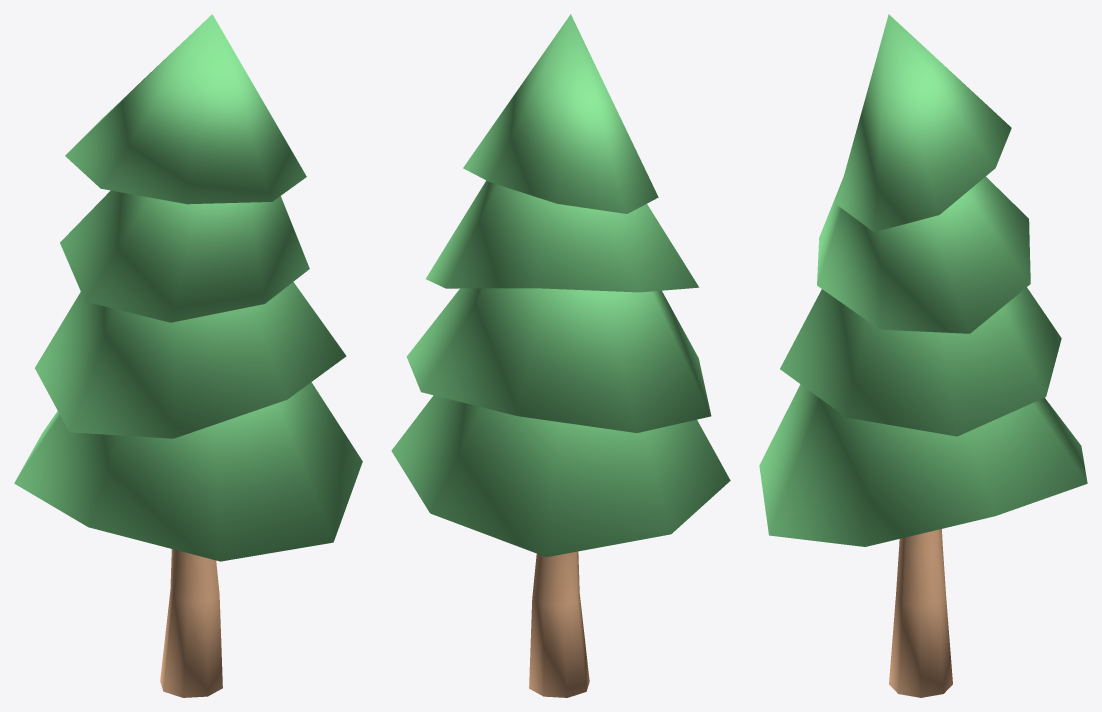
The model's file is Pohon_12.fbx.
3 views of the same model, side by side, from view 1: azimuth 30°, elevation 25°; view 2: azimuth 150°, elevation 25°; view 3: azimuth 270°, elevation 25° (orthographic). The views are drawn at different scales.
Parts seen in each view (by area): view 1: Circle.027; view 2: Circle.027; view 3: Circle.027.
Part boxes in pixels (x1,y1,x2,y2): Circle.027: [14, 14, 362, 697]; Circle.027: [391, 14, 730, 697]; Circle.027: [759, 14, 1087, 697].
Size of the model in its own units: 592 by 1330 by 589.
